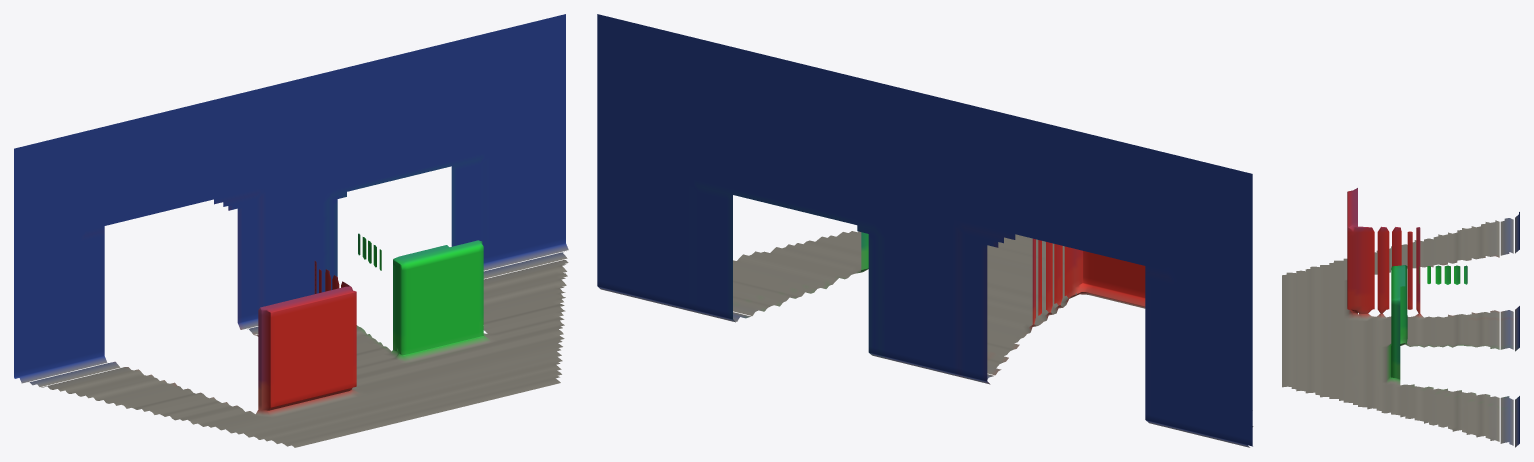
File: before.glb
The picture shows the model from 3 angles, left to right: view 1: azimuth 30°, elevation 25°; view 2: azimuth 150°, elevation 25°; view 3: azimuth 270°, elevation 25°; orthographic projection. The views are drawn at different scales.
Visible parts, largest first — view 1: Environment, Target0, Other0; view 2: Environment, Target0; view 3: Environment, Target0, Other0.
Part boxes in pixels (bbox=[...]): Environment: bbox=[14, 14, 568, 447]; Target0: bbox=[260, 261, 356, 410]; Other0: bbox=[358, 233, 483, 355]; Environment: bbox=[597, 14, 1253, 447]; Target0: bbox=[1032, 238, 1145, 324]; Environment: bbox=[1282, 212, 1519, 447]; Target0: bbox=[1347, 188, 1420, 313]; Other0: bbox=[1391, 265, 1467, 378].
Bounding box in the file's own units: 4.06 × 1.65 × 1.76.
